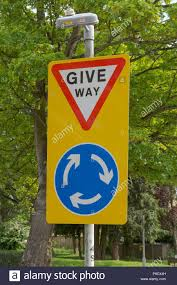giveway: (49, 58, 130, 132)
